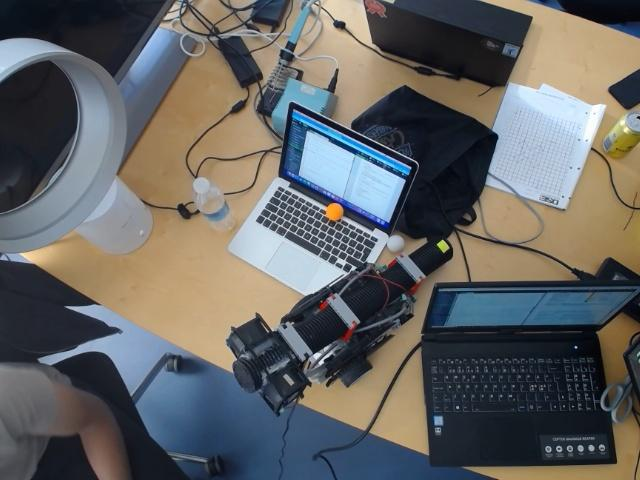orange: (324, 202, 345, 221)
robot: (227, 239, 453, 414)
robot-front: (416, 237, 453, 273)
white: (386, 235, 406, 253)
